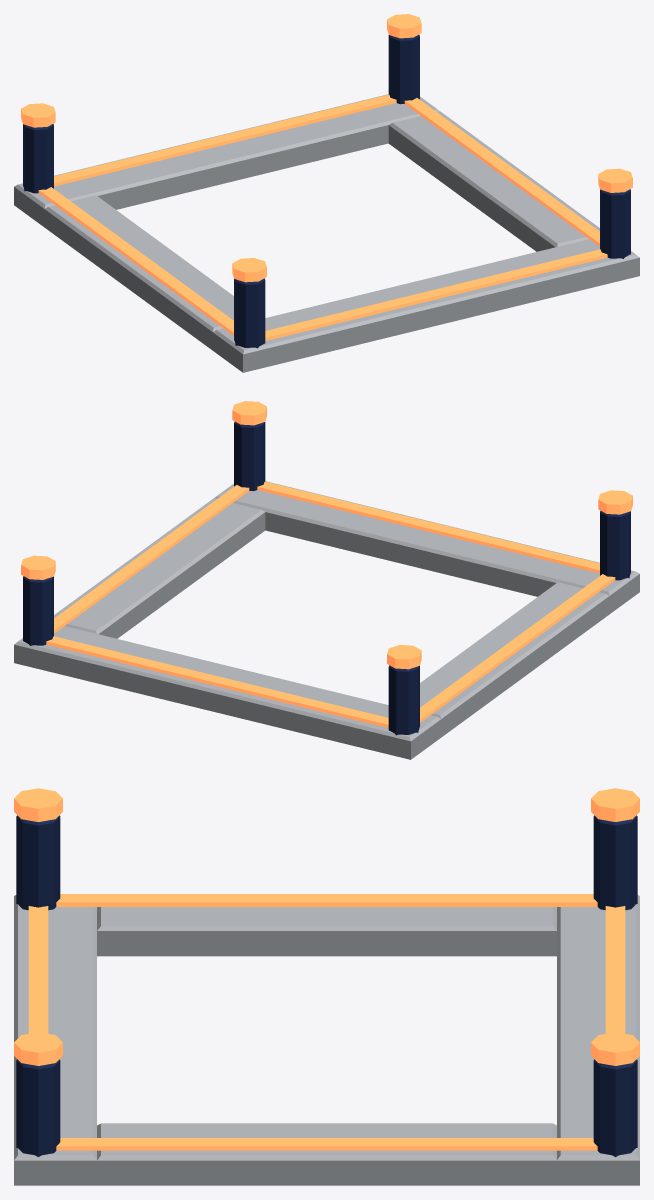
The model's file is PadRing_padO.glb.
The picture shows the model from 3 angles, top to bottom: view 1: azimuth 30°, elevation 25°; view 2: azimuth 150°, elevation 25°; view 3: azimuth 270°, elevation 25°; orthographic projection. The views are drawn at different scales.
Parts seen in each view (by area): view 1: PadRing_padO, PadRing_padO_Glow_padO; view 2: PadRing_padO, PadRing_padO_Glow_padO; view 3: PadRing_padO, PadRing_padO_Glow_padO.
Boxes of the visible parts, x1,y1,x2,y2 form: PadRing_padO: (14, 34, 639, 372); PadRing_padO_Glow_padO: (21, 14, 632, 340); PadRing_padO: (14, 421, 639, 759); PadRing_padO_Glow_padO: (21, 401, 632, 727); PadRing_padO: (14, 815, 639, 1185); PadRing_padO_Glow_padO: (14, 788, 639, 1150).
Size of the model in its own units: 12.8 by 3 by 12.8.
Materials: 2 (1 with a texture image).
